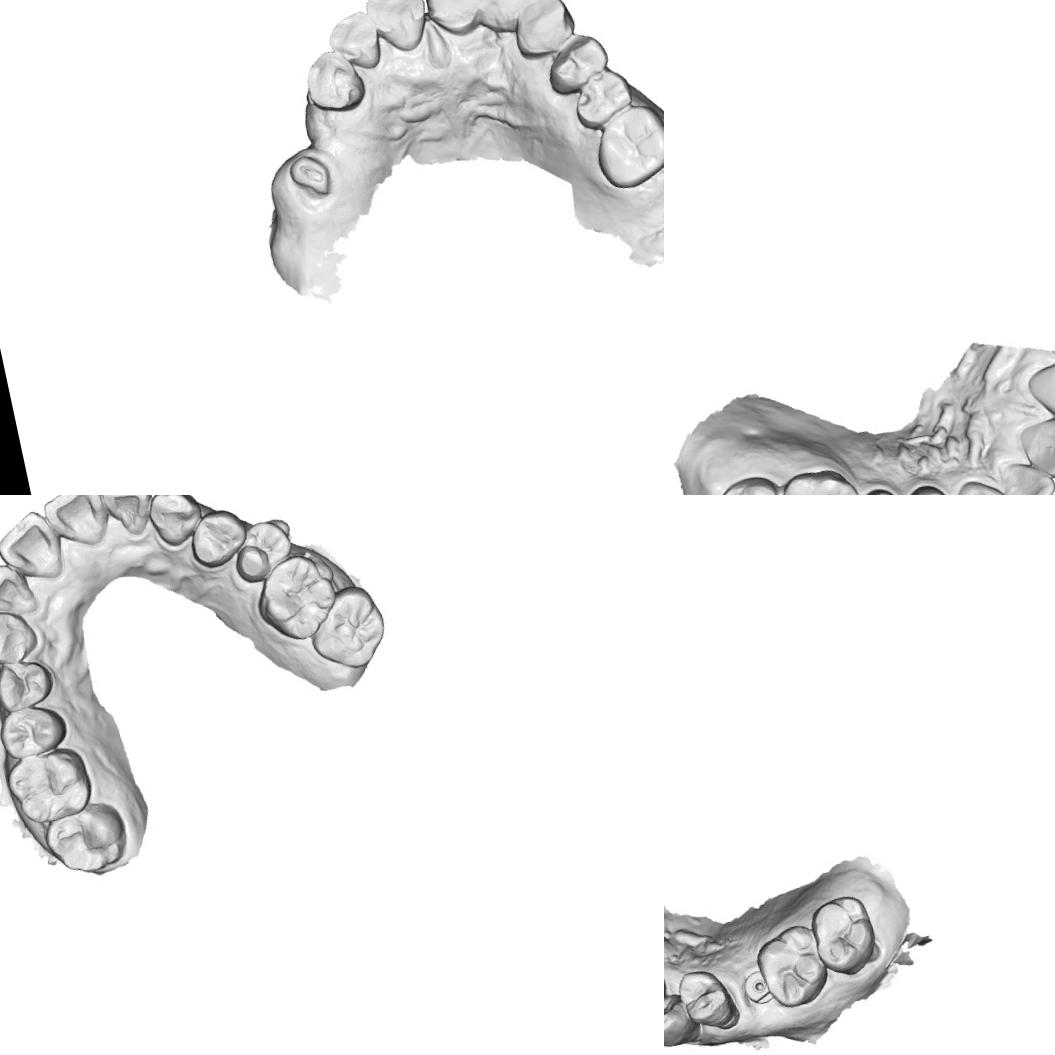canine: (297, 40, 372, 118), (505, 0, 580, 60), (143, 495, 208, 551), (0, 604, 43, 670), (664, 990, 698, 1052), (946, 473, 1015, 495)
implant: (740, 967, 775, 1009)
incisor: (0, 504, 68, 589), (37, 495, 114, 556), (323, 5, 387, 76), (361, 0, 433, 58), (1016, 411, 1055, 485), (419, 0, 487, 42), (98, 495, 160, 541), (0, 557, 41, 625), (1023, 349, 1055, 433), (472, 0, 535, 36), (999, 456, 1055, 495)
molar: (248, 548, 346, 649), (300, 576, 396, 678), (0, 744, 99, 832), (38, 796, 134, 882), (749, 920, 834, 1014), (587, 97, 664, 193), (805, 890, 884, 982), (777, 460, 868, 495), (710, 469, 797, 495)
premolar: (566, 63, 638, 134), (540, 31, 616, 98), (227, 515, 298, 586), (674, 964, 742, 1036), (184, 505, 252, 574), (0, 700, 72, 763), (0, 653, 59, 717), (892, 478, 962, 495)
